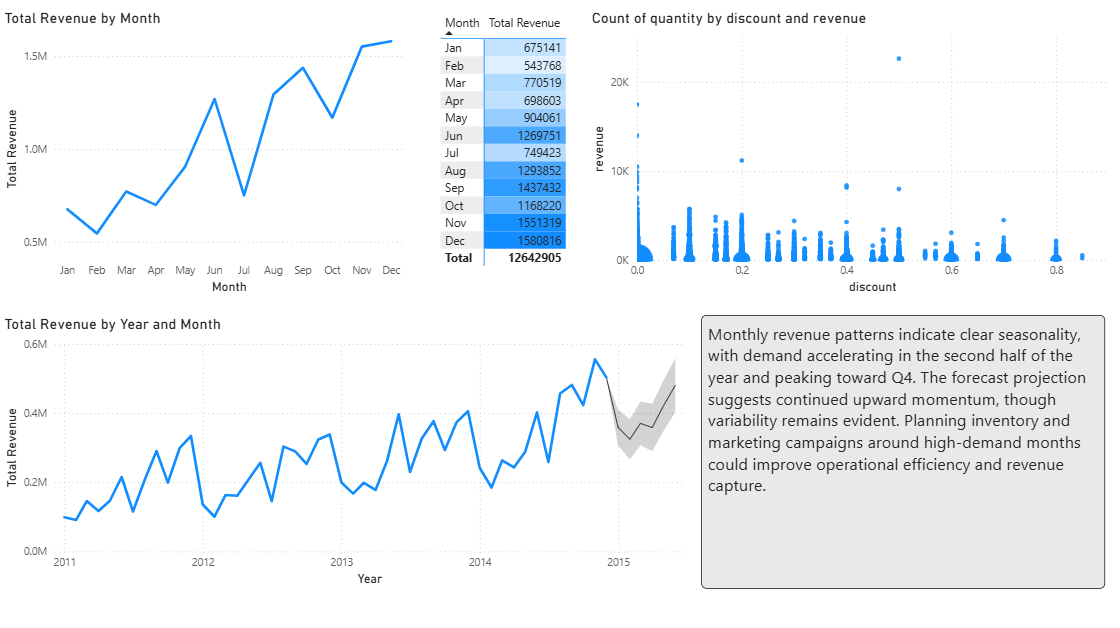

What the dashboard file says about the page in this screenshot:
{"tool":"powerbi","page":{"name":"Demand & Seasonality","canvas":[1280,720],"ordinal":1},"visuals":[{"type":"lineChart","fields":{"Y":["SuperStoreOrders.Total Revenue"],"Category":["Date Table.Month"]},"box":[0,10,465.7,331.4],"z":0},{"type":"pivotTable","fields":{"Rows":["Date Table.Month"],"Values":["SuperStoreOrders.Total Revenue"]},"box":[498.6,10,160,318.6],"z":1000},{"type":"scatterChart","fields":{"X":["SuperStoreOrders.discount"],"Y":["SuperStoreOrders.revenue"],"Size":["CountNonNull(SuperStoreOrders.quantity)"]},"box":[671.4,10,608.6,331.4],"z":2000},{"type":"lineChart","fields":{"Y":["SuperStoreOrders.Total Revenue"],"Category":["Date Table.Date.Variation.Date Hierarchy.Year","Date Table.Date.Variation.Date Hierarchy.Month"]},"box":[0,360,790,314.3],"z":3000},{"type":"textbox","box":[801.4,360,461.4,312.9],"z":3001}]}

Visuals, with their boxes in screenshot pixels (x1, y1, x2, y2), scaled from the page's 1280x720 canvas onto the 1120x628 screenshot:
lineChart - SuperStoreOrders.Total Revenue x Date Table.Month: Rect(0, 9, 407, 298)
pivotTable - Date Table.Month x SuperStoreOrders.Total Revenue: Rect(436, 9, 576, 287)
scatterChart - SuperStoreOrders.discount x SuperStoreOrders.revenue: Rect(587, 9, 1119, 298)
lineChart - SuperStoreOrders.Total Revenue x Date Table.Date.Variation.Date Hierarchy.Year: Rect(0, 314, 691, 588)
textbox: Rect(701, 314, 1105, 587)
